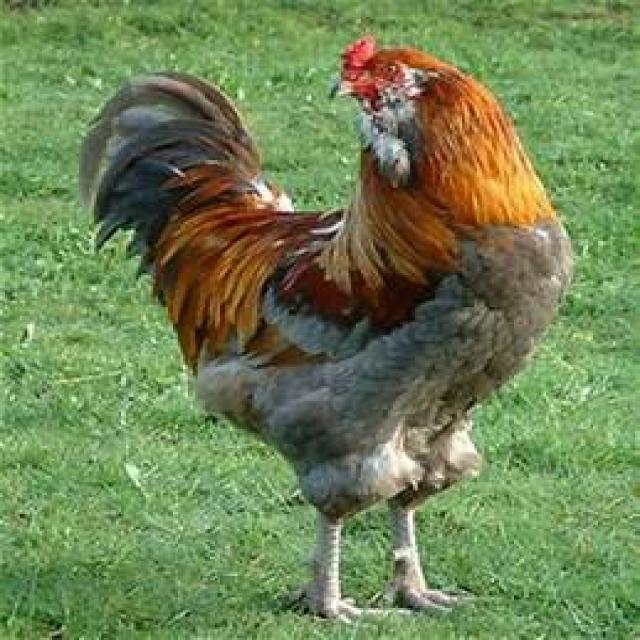hen: (77, 36, 576, 623)
